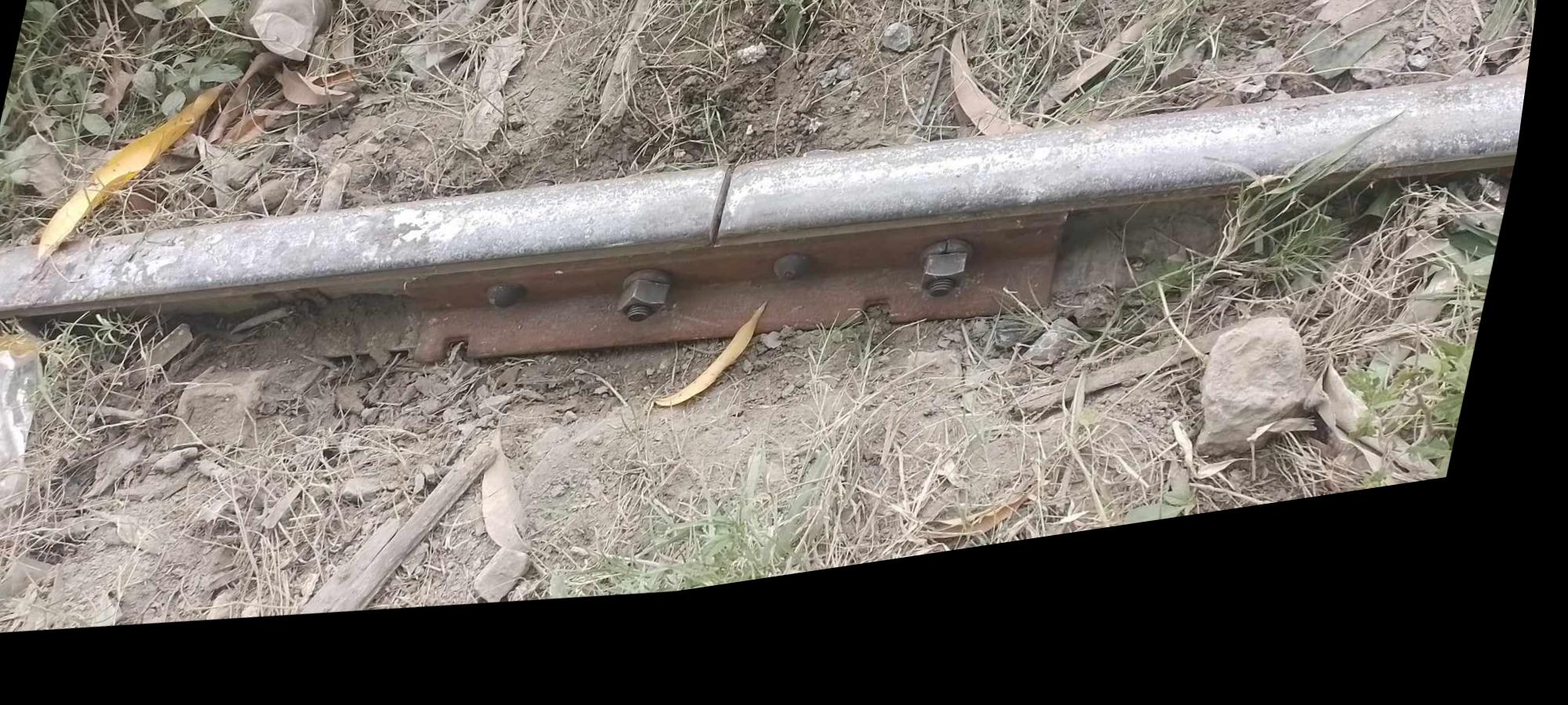person: (655, 157, 808, 302)
